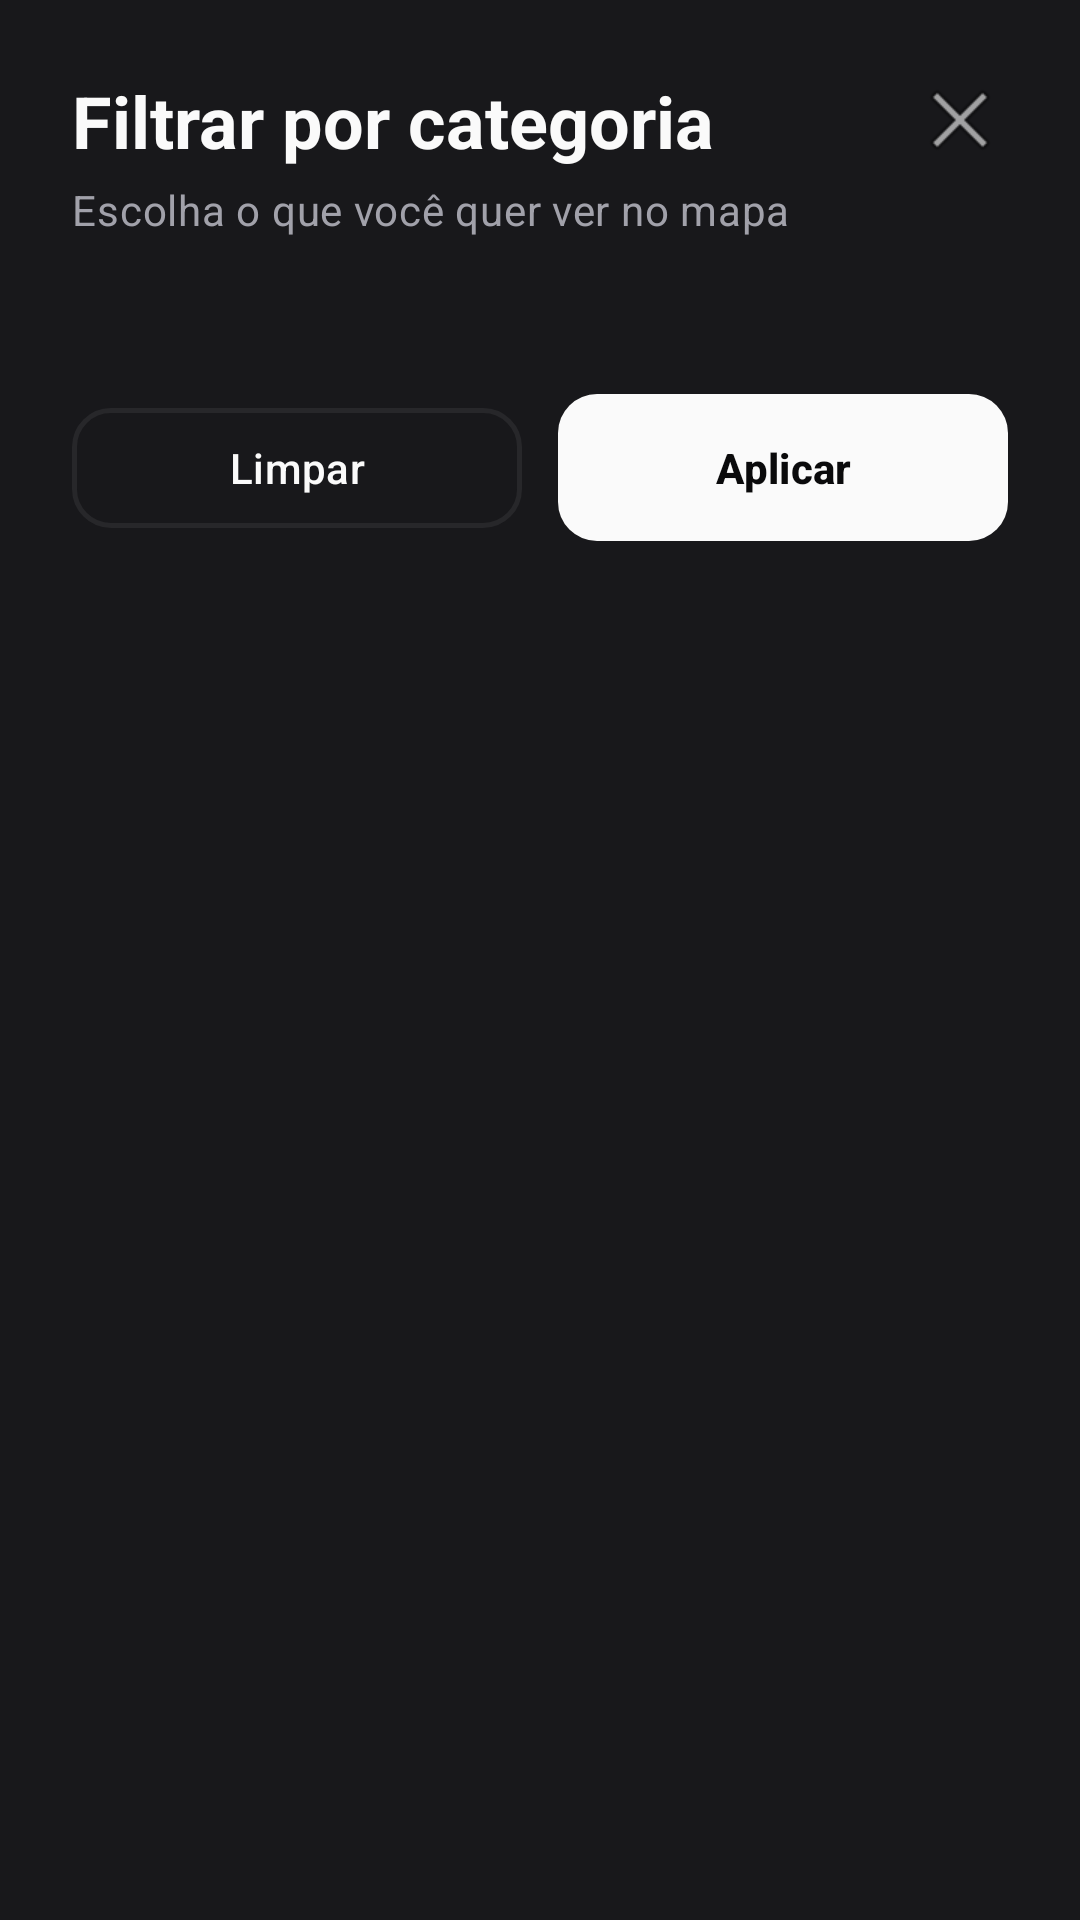

Icons on this 1080x1920 Android screen, each with the point to tap as (x,y):
Fechar: (960,120)
